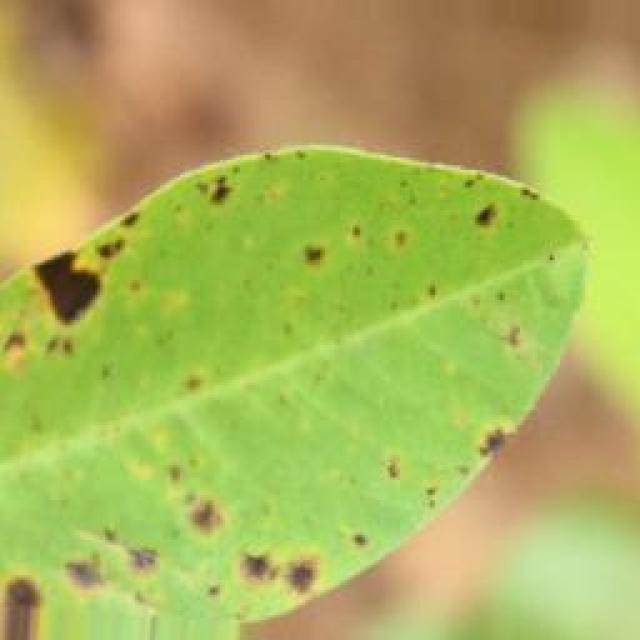Yellowish: (10, 127, 541, 640)
